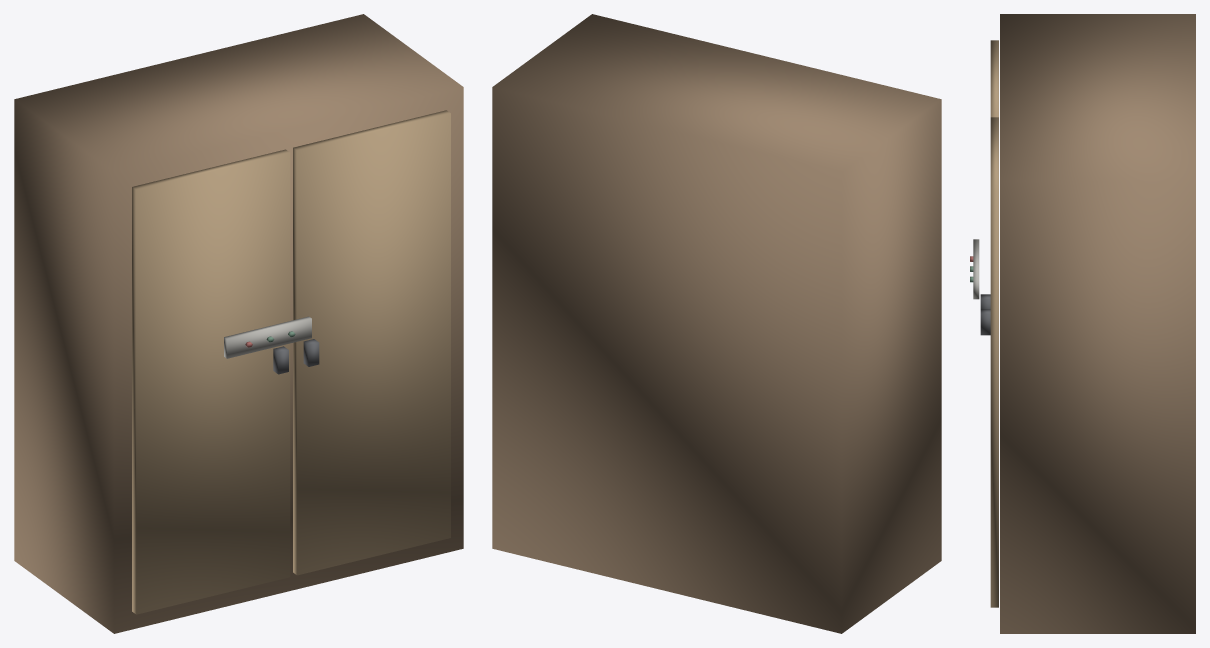
Rendered from wardrobe__squat.glb.
3 renders of one model, left to right at view 1: azimuth 30°, elevation 25°; view 2: azimuth 150°, elevation 25°; view 3: azimuth 270°, elevation 25°, orthographic.
Visible parts, largest first — view 1: world; view 2: world; view 3: world.
Part boxes in pixels (bbox=[...]): world: bbox=[14, 14, 463, 633]; world: bbox=[492, 14, 941, 633]; world: bbox=[970, 14, 1195, 633].
Bounding box in the file's own units: 1.26 × 1.6 × 0.722.
